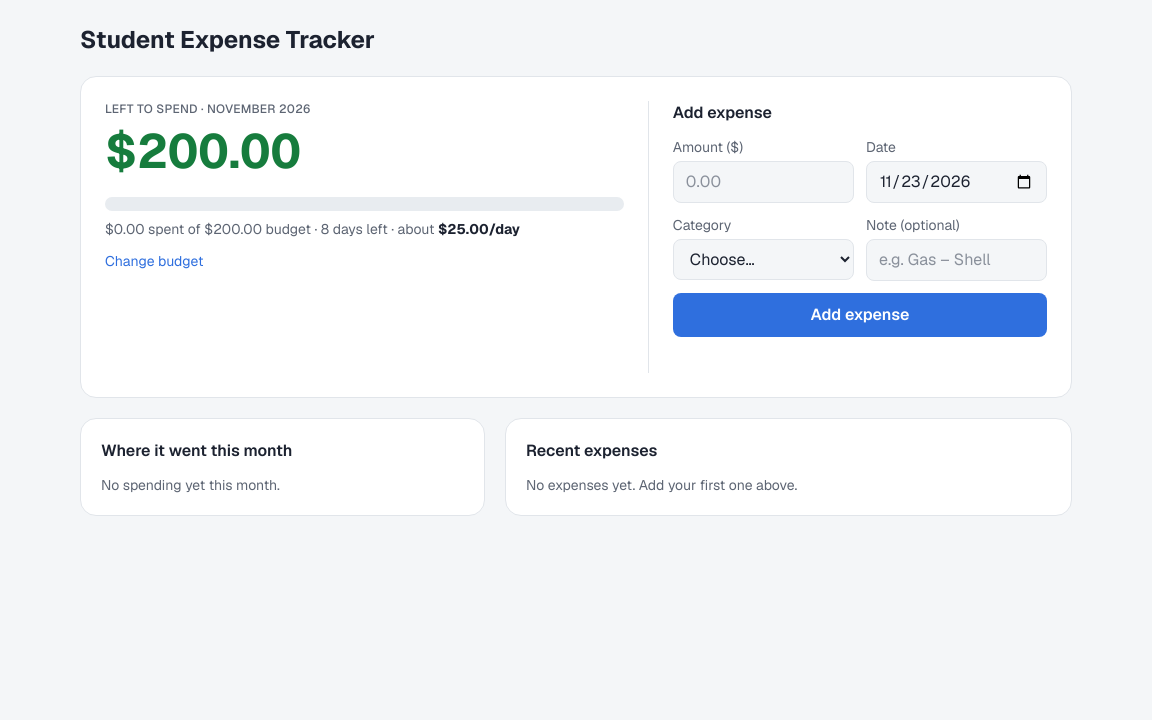
Test: S2: monthly budget › S2-AC2: with a $200 budget, $201 is rejected and $200 is accepted
This screenshot has width=1152, height=720.
Type "201" into the field labelled "Amount ($)" at (763, 182), box top-left (673, 161), bottom-right (854, 203)
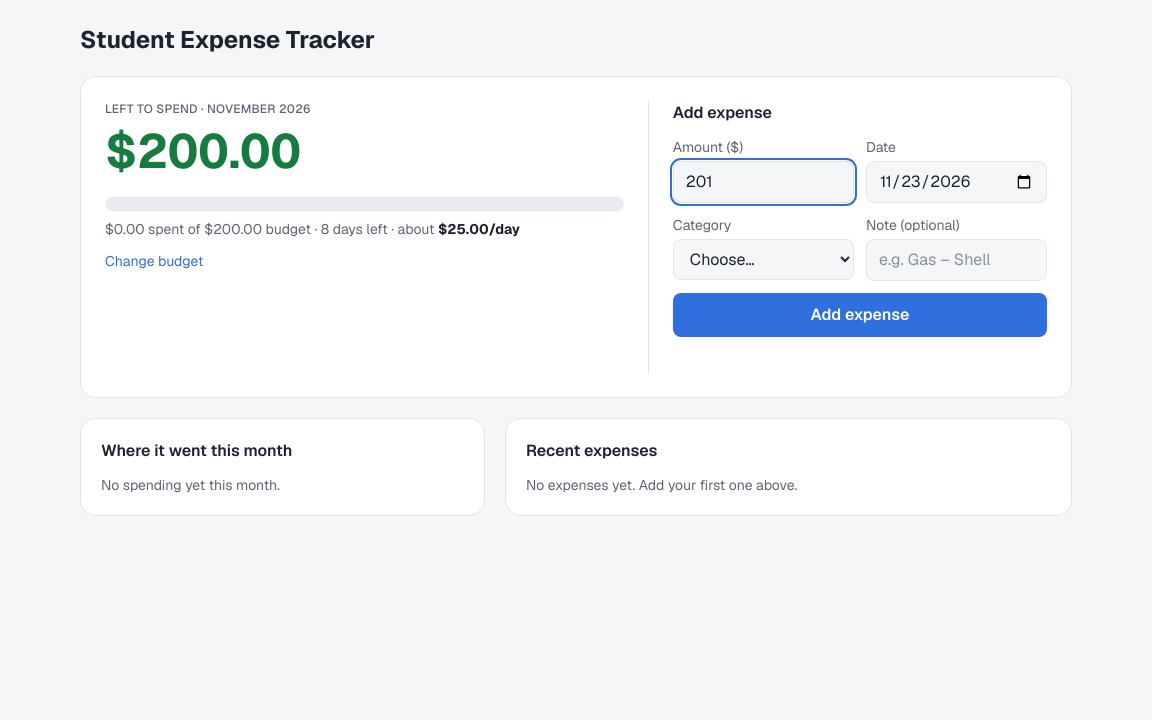
Select "Food" in the dropdown labelled "Category" at (763, 260), box top-left (673, 239), bottom-right (854, 280)
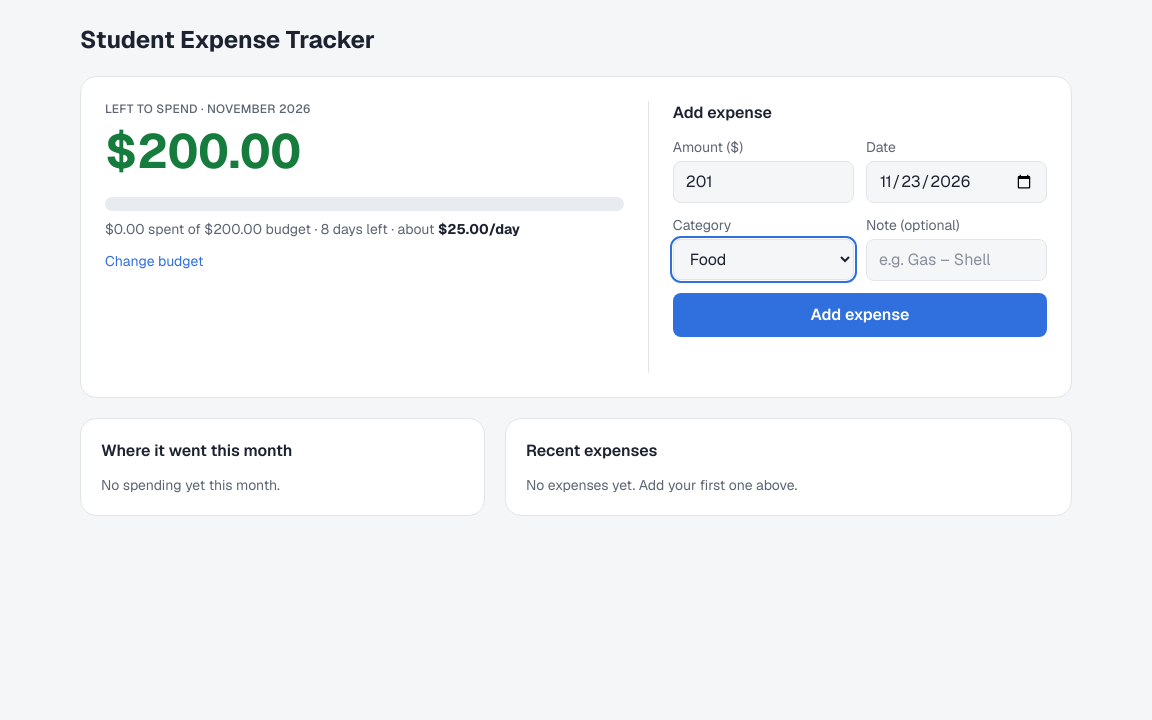
Click the button "Add expense" at (860, 315), box top-left (673, 293), bottom-right (1047, 337)
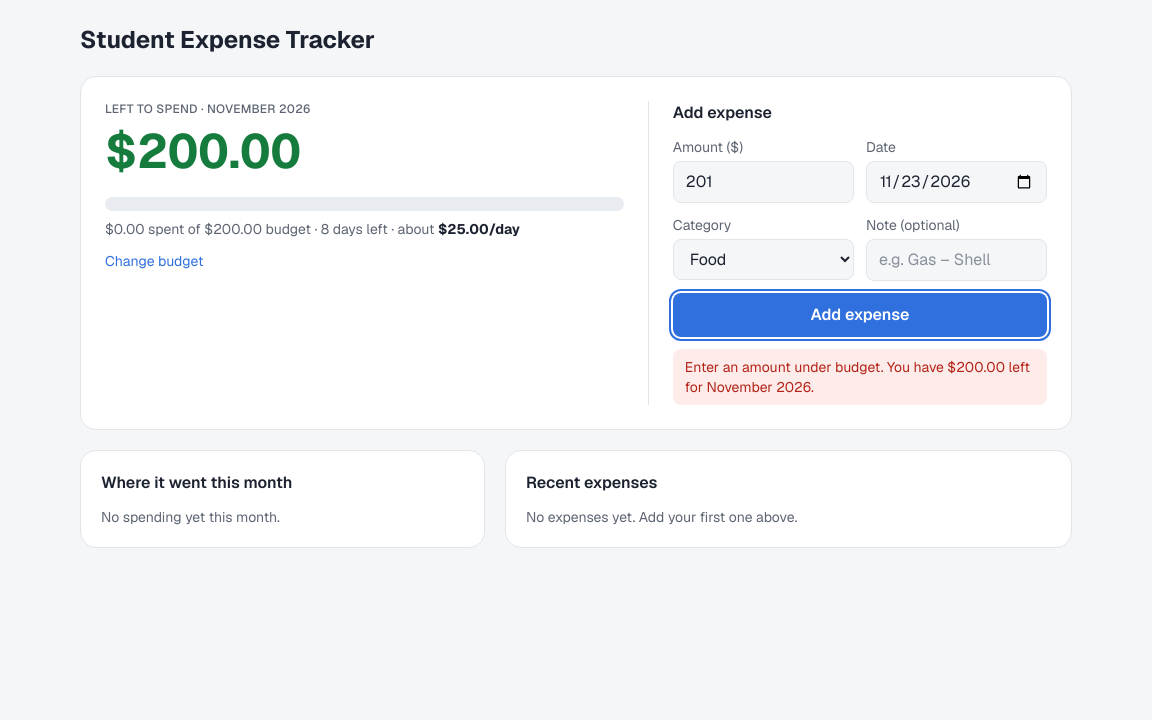
Result: the message reads "Enter an amount under budget. You have $200.00 left for November 2026." at top-left (685, 358), bottom-right (1030, 396)
Replace the text in the field labelled "Amount ($)" with "200" at (763, 182), box top-left (673, 161), bottom-right (854, 203)
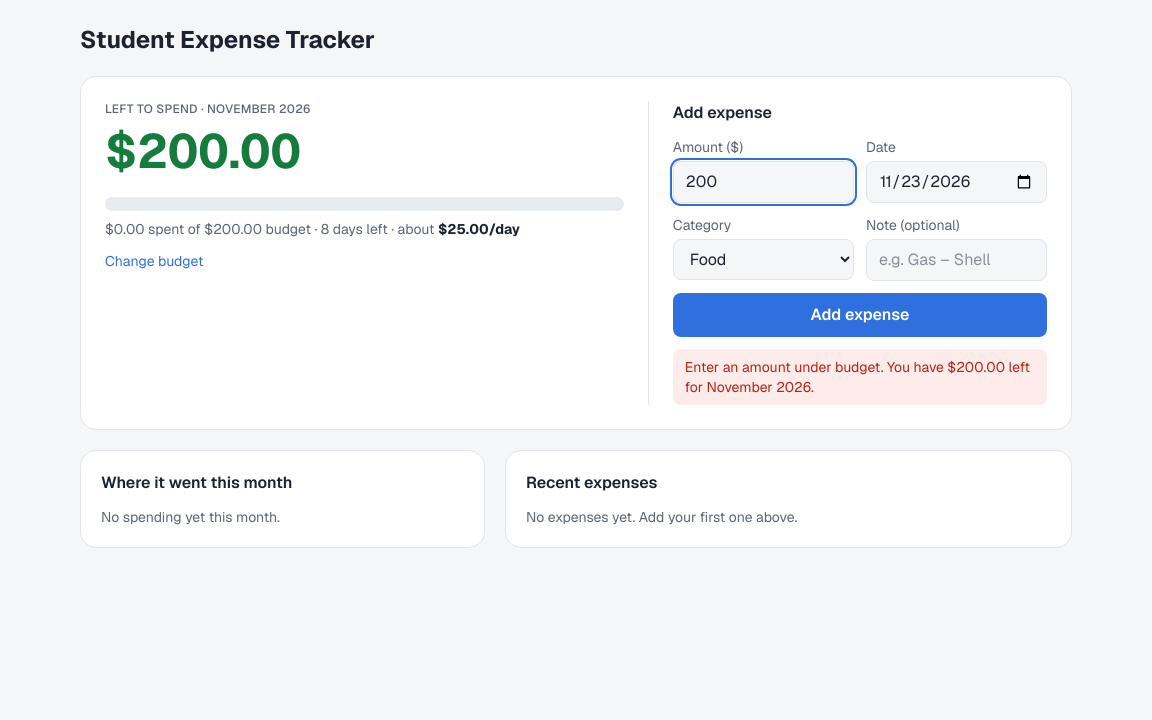
Select "Food" in the dropdown labelled "Category" at (763, 260), box top-left (673, 239), bottom-right (854, 280)
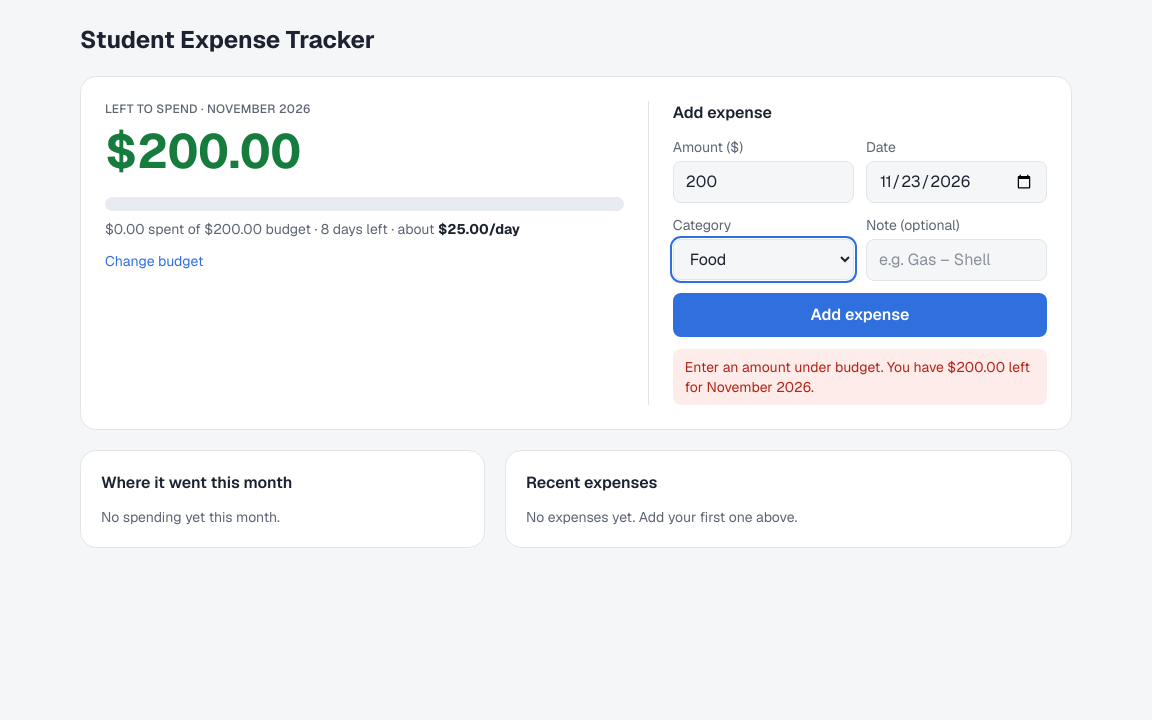
Click the button "Add expense" at (860, 315), box top-left (673, 293), bottom-right (1047, 337)
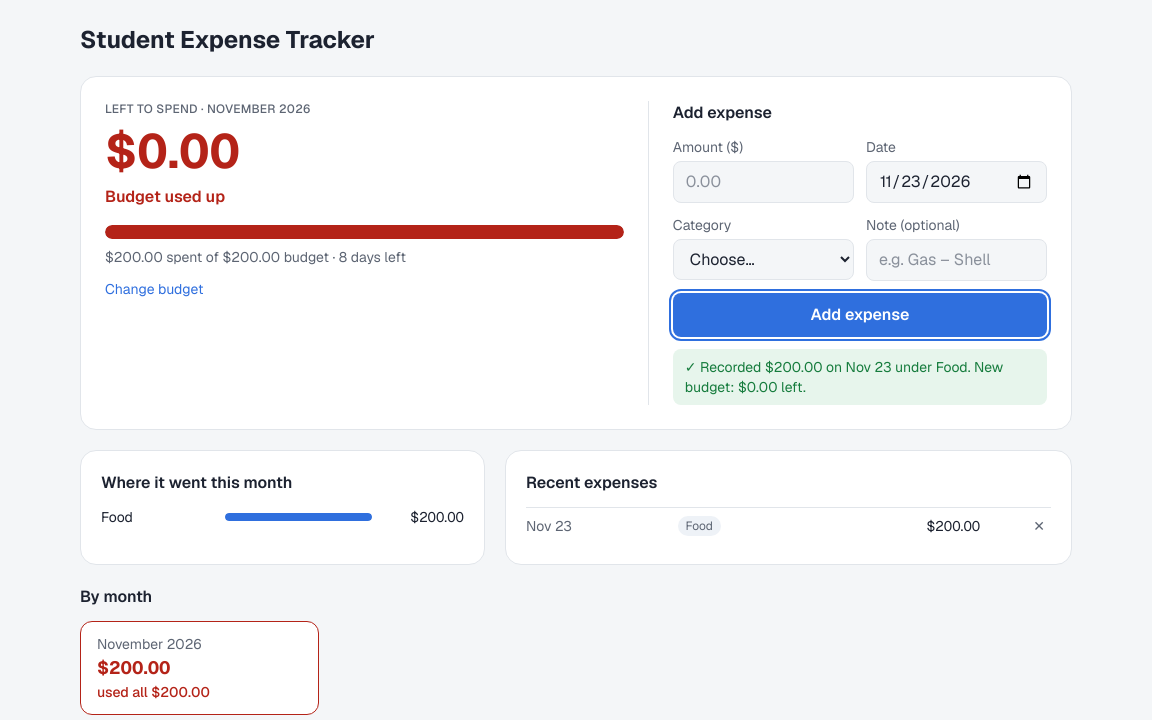
Result: the message shows "Recorded $200.00 on Nov 23 under Food. New budget: $0.00 left." at top-left (685, 358), bottom-right (1003, 396)
